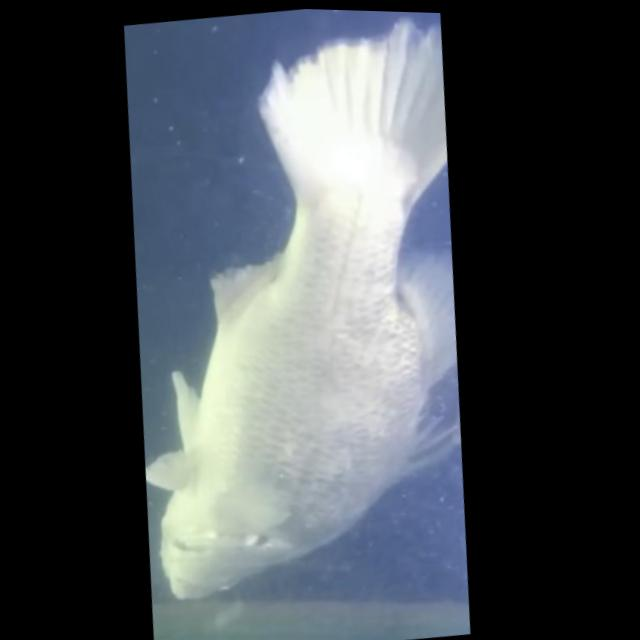Seabass: (83, 7, 508, 614)
